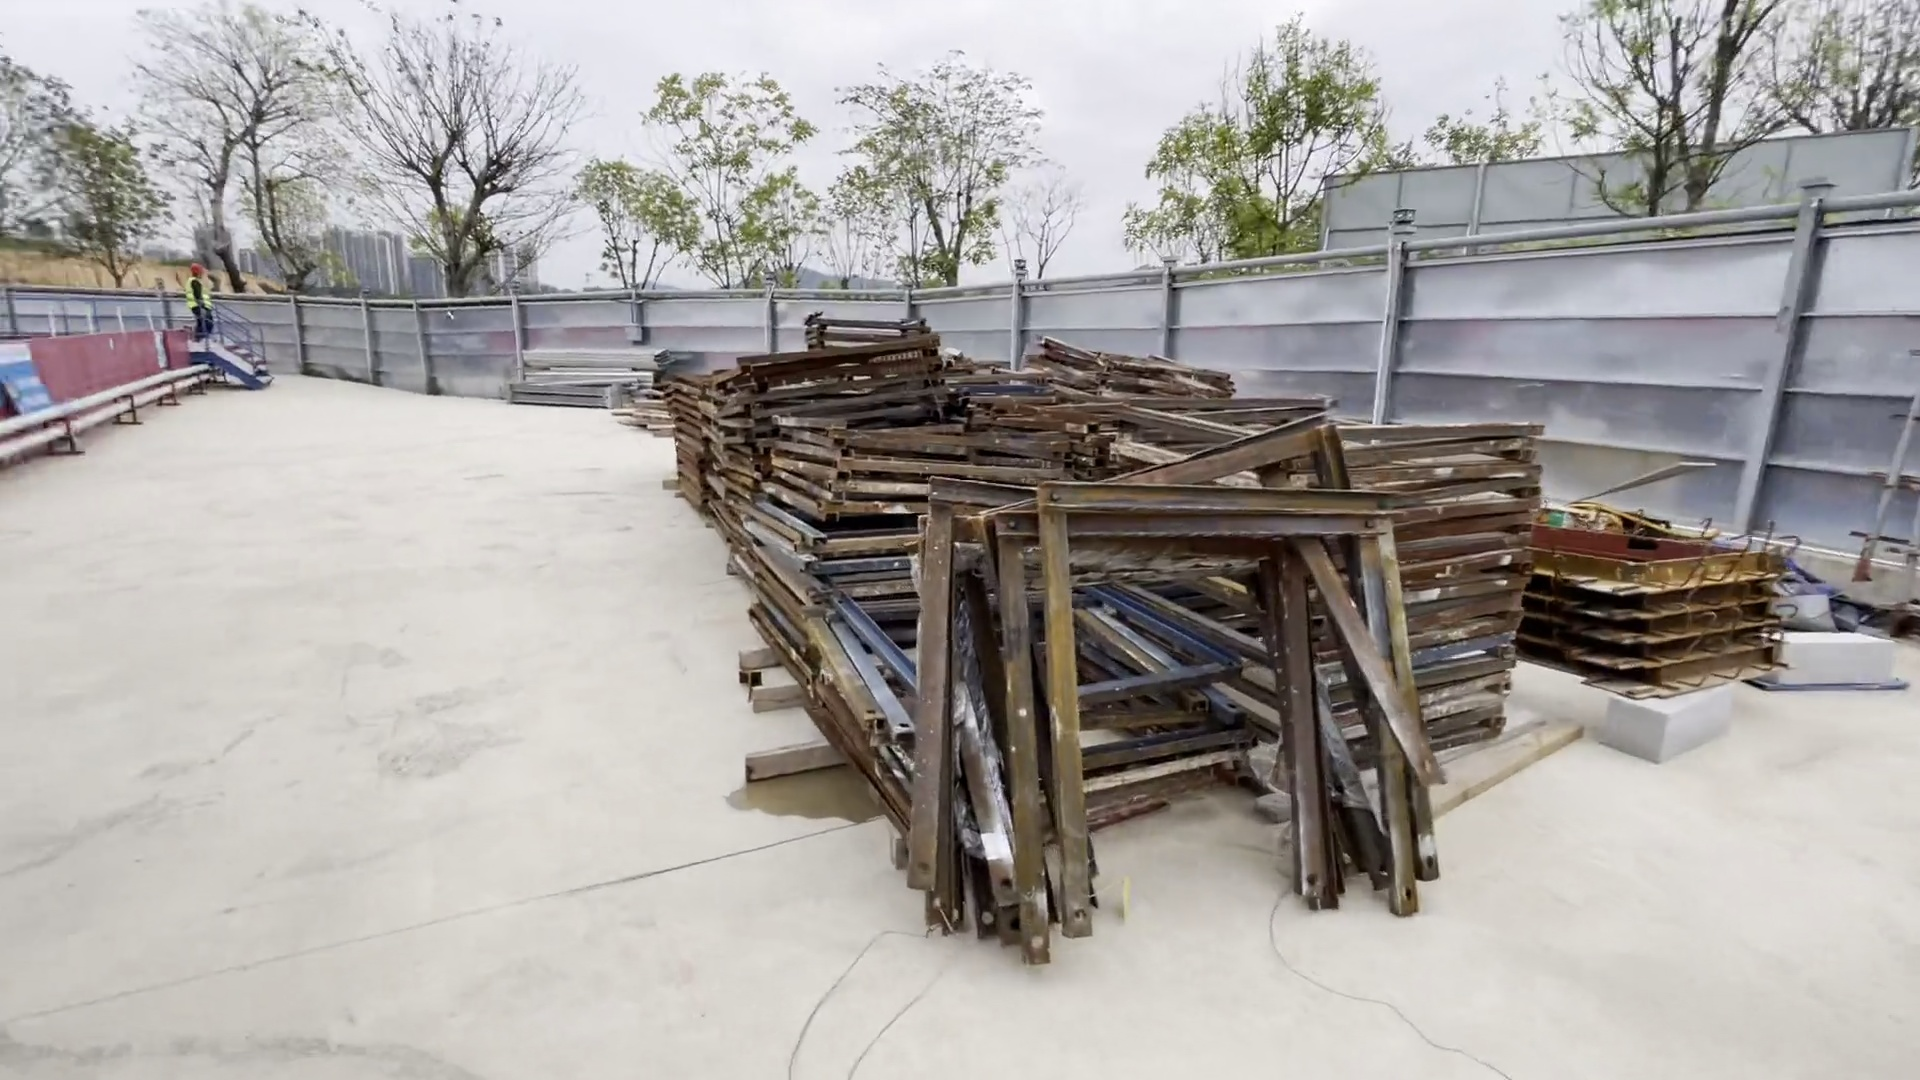helmet: (190, 261, 208, 278)
person: (178, 253, 215, 337)
vest: (182, 275, 204, 302)
